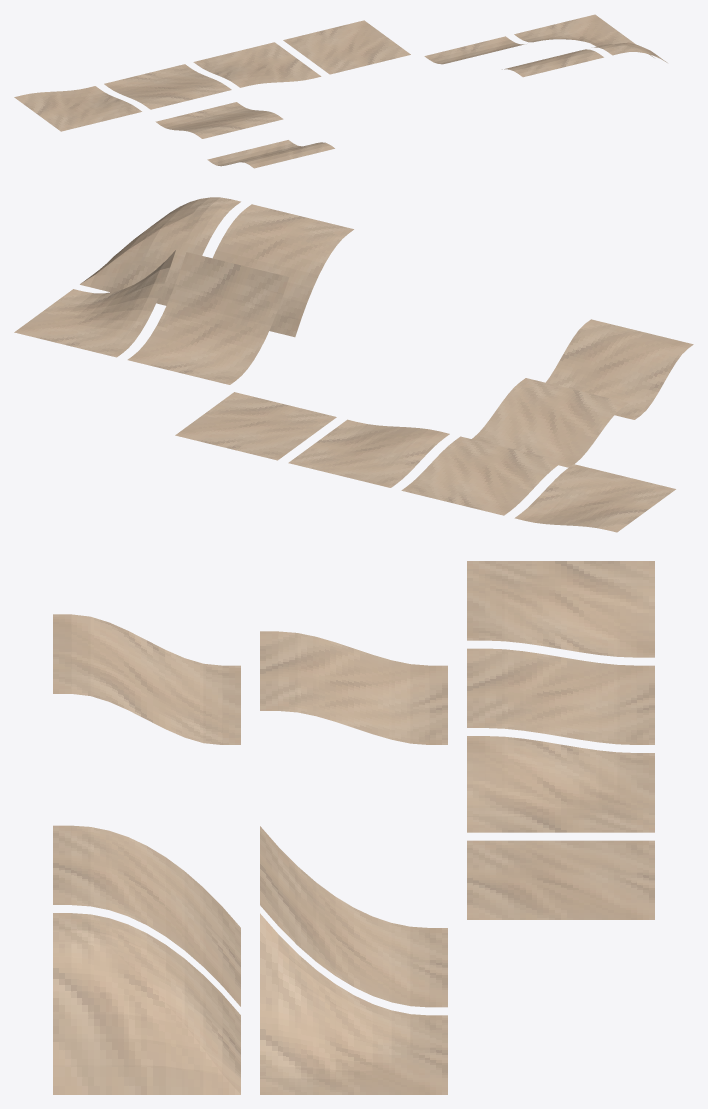
The model's file is sand_tiles3.glb.
The picture shows the model from 3 angles, top to bottom: view 1: azimuth 30°, elevation 25°; view 2: azimuth 150°, elevation 25°; view 3: azimuth 270°, elevation 25°; orthographic projection. The views are drawn at different scales.
Visible parts, largest first — view 1: normal-col, hill1-outerCorner-col, hill1-innerCorner-col, hill1-col, hill2-col, steep6.1-outer-corner-col, hill3-col, steep6.1-col, steep6.2-col, steep6.2-outer-corner-col; view 2: steep6.1-col, steep6.2-col, hill3-col, hill2-col, hill1-col, steep6.1-outer-corner-col, steep6.2-outer-corner-col, hill1-outerCorner-col, hill1-innerCorner-col, normal-col; view 3: steep6.2-outer-corner-col, steep6.1-outer-corner-col, hill1-outerCorner-col, hill1-innerCorner-col, steep6.2-col, hill2-col, steep6.1-col, hill1-col, hill3-col, normal-col.
Part boxes in pixels (x1,y1,x2,y2): normal-col: (283, 20, 410, 74); hill1-outerCorner-col: (193, 42, 321, 87); hill1-innerCorner-col: (14, 86, 141, 131); hill1-col: (104, 64, 231, 109); hill2-col: (155, 102, 283, 138); steep6.1-outer-corner-col: (514, 14, 635, 46); hill3-col: (207, 140, 334, 168); steep6.1-col: (424, 36, 524, 64); steep6.2-col: (502, 49, 603, 77); steep6.2-outer-corner-col: (594, 42, 667, 62); steep6.1-col: (127, 252, 289, 384); steep6.2-col: (213, 204, 353, 337); hill3-col: (546, 319, 693, 419); hill2-col: (472, 378, 627, 467); hill1-col: (401, 436, 562, 515); steep6.1-outer-corner-col: (14, 250, 175, 357); steep6.2-outer-corner-col: (80, 197, 240, 305); hill1-outerCorner-col: (288, 419, 449, 487); hill1-innerCorner-col: (514, 464, 675, 532); normal-col: (175, 392, 336, 460); steep6.2-outer-corner-col: (53, 913, 240, 1094); steep6.1-outer-corner-col: (260, 913, 447, 1094); hill1-outerCorner-col: (467, 736, 654, 832); hill1-innerCorner-col: (467, 561, 654, 657); steep6.2-col: (53, 825, 240, 1006); hill2-col: (260, 631, 447, 744); steep6.1-col: (260, 826, 447, 1007); hill1-col: (467, 648, 654, 744); hill3-col: (53, 614, 240, 744); normal-col: (467, 840, 654, 919).
Size of the model in its own units: 65 by 6 by 32.
1 material, 1 textured.
